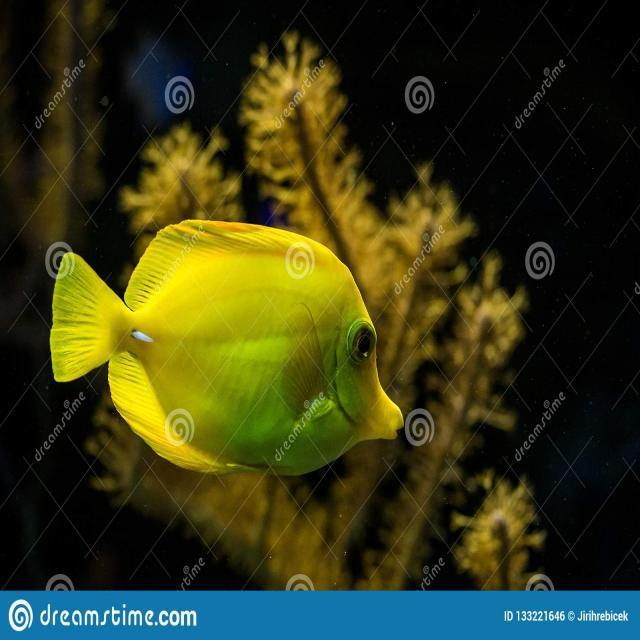TangFish: (44, 213, 402, 480)
